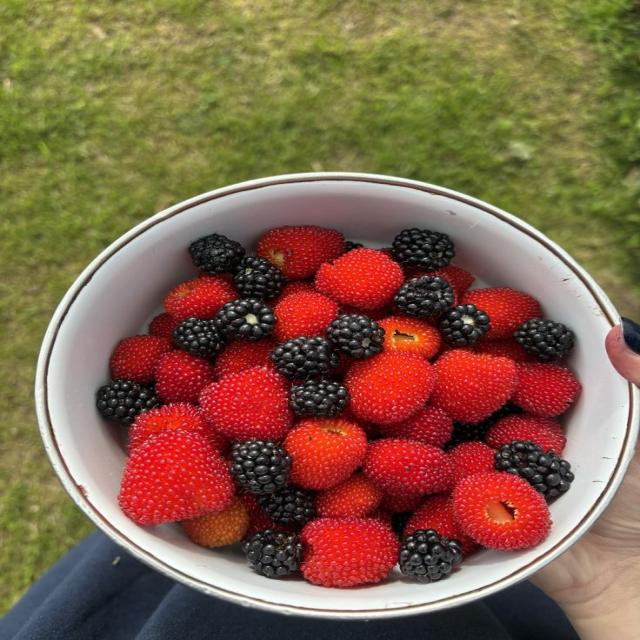raspberry: (119, 430, 234, 524), (453, 472, 551, 550), (200, 367, 293, 441), (301, 518, 399, 587), (346, 352, 434, 424), (430, 350, 517, 422), (284, 417, 366, 489), (315, 248, 403, 310), (363, 438, 453, 495), (256, 226, 345, 279), (494, 441, 574, 499), (403, 494, 475, 555), (461, 288, 540, 339), (128, 403, 211, 451), (445, 402, 522, 449), (512, 364, 580, 417), (181, 498, 249, 548), (230, 440, 292, 494), (399, 529, 462, 582), (274, 291, 339, 342), (165, 276, 237, 321), (486, 414, 566, 454), (110, 335, 173, 384), (155, 350, 213, 403), (316, 473, 384, 517), (242, 529, 303, 578), (383, 405, 453, 447), (96, 380, 161, 425), (272, 336, 338, 380), (405, 265, 475, 304), (379, 316, 441, 359), (214, 299, 277, 341), (327, 314, 385, 359), (392, 228, 454, 270), (514, 318, 573, 361), (394, 276, 454, 318), (214, 339, 276, 379), (189, 233, 245, 275), (438, 305, 490, 347), (290, 380, 349, 417), (258, 487, 315, 525), (234, 257, 284, 300), (173, 318, 225, 359), (238, 492, 284, 537), (449, 442, 494, 482), (432, 265, 475, 302), (474, 338, 538, 362), (380, 492, 423, 513), (278, 281, 317, 302), (148, 312, 178, 339), (345, 241, 364, 252)
